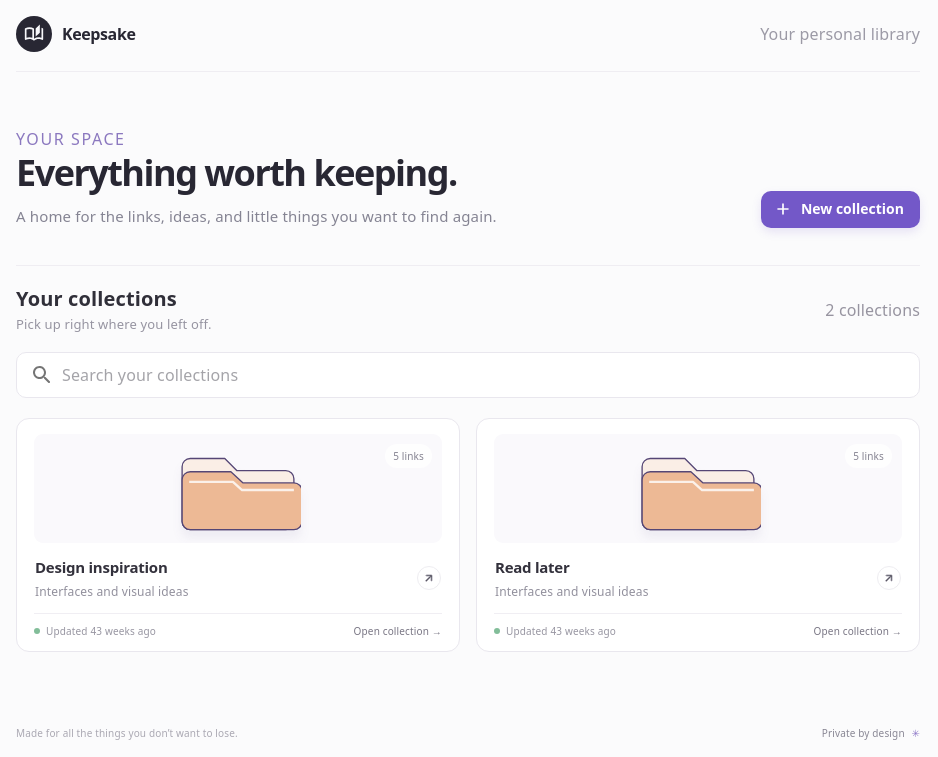
Scenario: HomePage › loads API collections and filters the folder list from the controlled search field
Check: the heading "Design inspiration" is shown, box top-left (35, 556), bottom-right (188, 579)
Type "read" into the field labelled "Search your collections". click: (491, 375)
box: top-left (62, 355), bottom-right (920, 395)
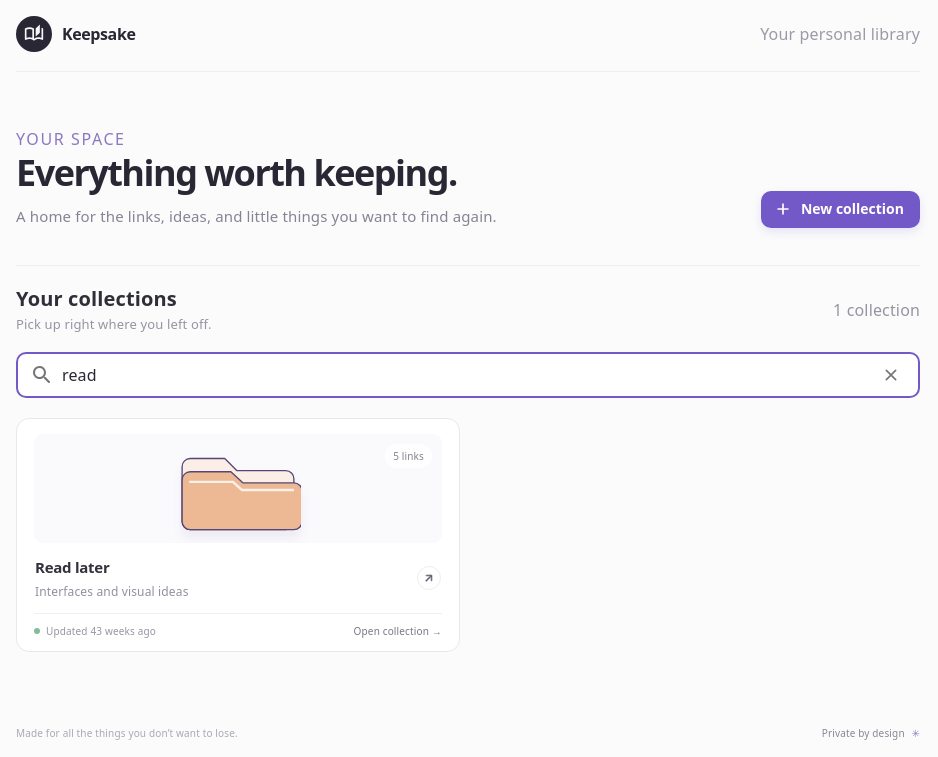
Check: the heading "Read later" is shown, box top-left (35, 557), bottom-right (110, 577)
Check: the link "Design inspiration" is gone
